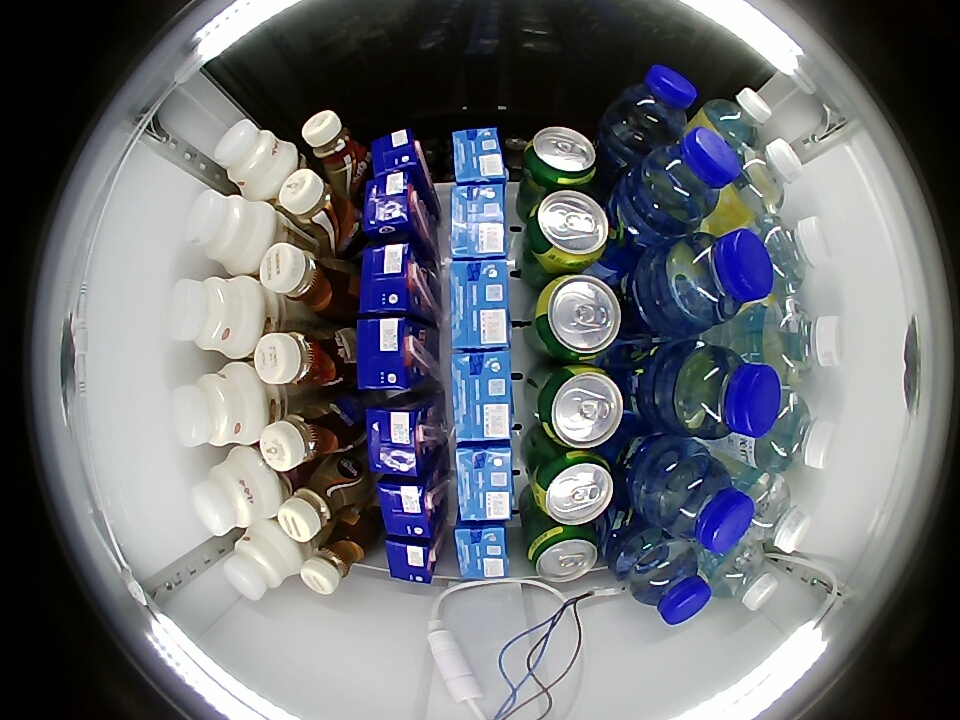bingqilinniunai: (356, 316, 427, 400), (365, 402, 437, 477), (359, 242, 426, 317), (362, 170, 425, 239), (377, 475, 440, 540), (370, 129, 427, 182), (385, 534, 439, 584)
kafei: (258, 396, 358, 471), (259, 243, 352, 322), (278, 459, 365, 541), (278, 170, 357, 254), (255, 325, 353, 391), (302, 110, 372, 189), (301, 525, 369, 595)
maidong: (650, 451, 756, 556), (663, 228, 773, 326), (672, 345, 782, 441), (638, 128, 744, 223), (605, 64, 697, 155), (623, 539, 713, 626)
qinningshui: (748, 389, 837, 471), (760, 297, 845, 381), (749, 215, 830, 297), (735, 472, 812, 553), (725, 138, 803, 215), (705, 537, 779, 610), (699, 87, 773, 153)
weitanai: (450, 348, 515, 442), (450, 260, 510, 352), (455, 441, 515, 523), (448, 184, 506, 262), (452, 127, 508, 187), (454, 521, 509, 580)
xuebi2: (533, 274, 625, 362), (533, 364, 624, 449), (526, 190, 612, 271), (530, 450, 618, 525), (523, 126, 600, 189), (527, 525, 601, 582)
yingyangkuaixian: (191, 446, 282, 536), (171, 362, 266, 448), (169, 275, 265, 358), (186, 190, 276, 275), (214, 120, 300, 200), (223, 521, 303, 600)
